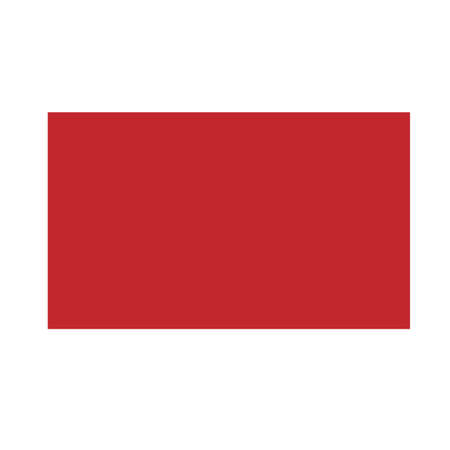rectangulo: (47, 112, 411, 330)
